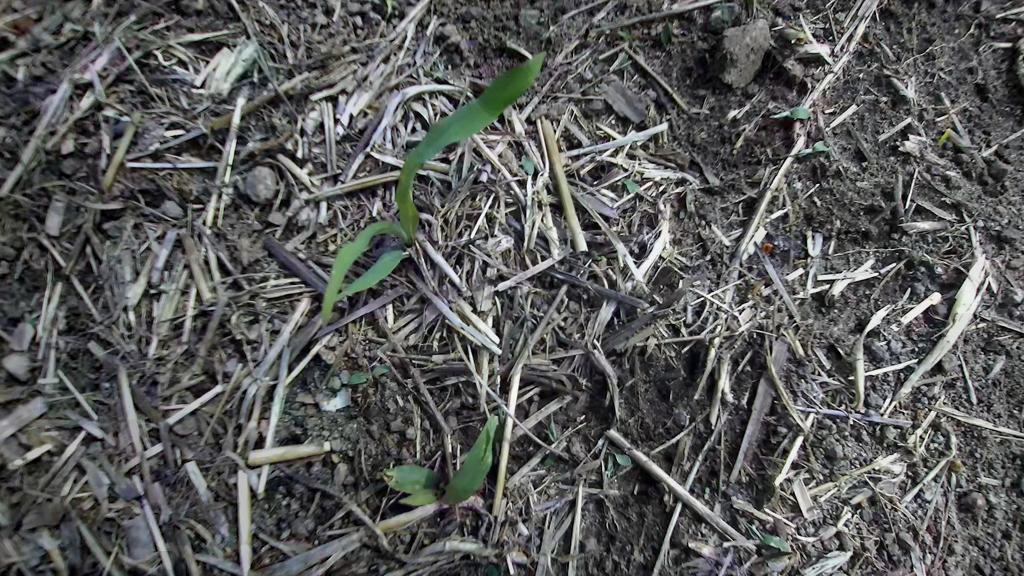BroWeed: (737, 520, 794, 555), (617, 174, 656, 207), (345, 362, 392, 388), (612, 26, 643, 52), (604, 49, 633, 76), (604, 443, 634, 469), (940, 420, 962, 454), (796, 139, 829, 158), (540, 412, 559, 443), (587, 246, 611, 270), (516, 154, 540, 177), (657, 20, 674, 51), (683, 183, 696, 223), (769, 107, 811, 119), (759, 240, 777, 258), (935, 128, 951, 147), (946, 469, 959, 491), (543, 451, 558, 468), (606, 453, 616, 475), (485, 564, 499, 576), (702, 485, 712, 500), (827, 390, 833, 402)
Maize: (294, 21, 553, 347), (378, 413, 523, 530)
